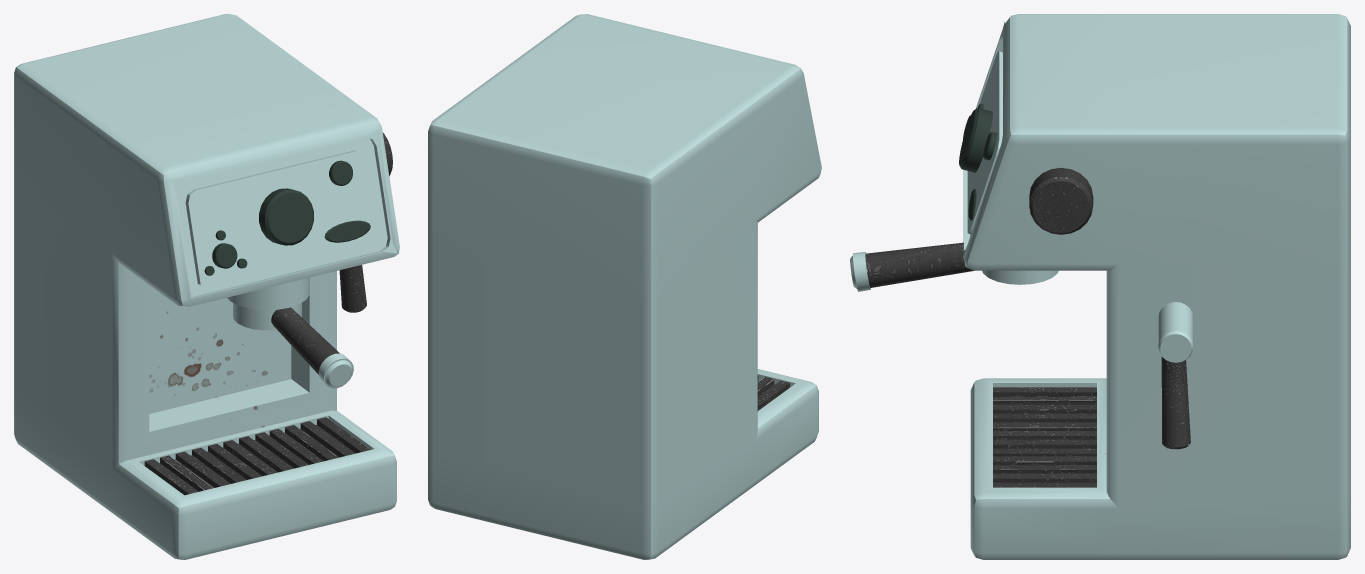
Rendered from espressoMachine.gltf.
3 renders of one model, left to right at view 1: azimuth 30°, elevation 25°; view 2: azimuth 150°, elevation 25°; view 3: azimuth 270°, elevation 25°, orthographic. The views are drawn at different scales.
Visible parts, largest first — view 1: espressoMachine; view 2: espressoMachine; view 3: espressoMachine.
Boxes of the visible parts, box(x1,y1,x2,y2) form: espressoMachine: box(14, 14, 399, 559); espressoMachine: box(428, 14, 821, 559); espressoMachine: box(850, 14, 1350, 559).
Bounding box in the file's own units: 1.22 × 1.57 × 1.65.
3 materials, 3 textured.
